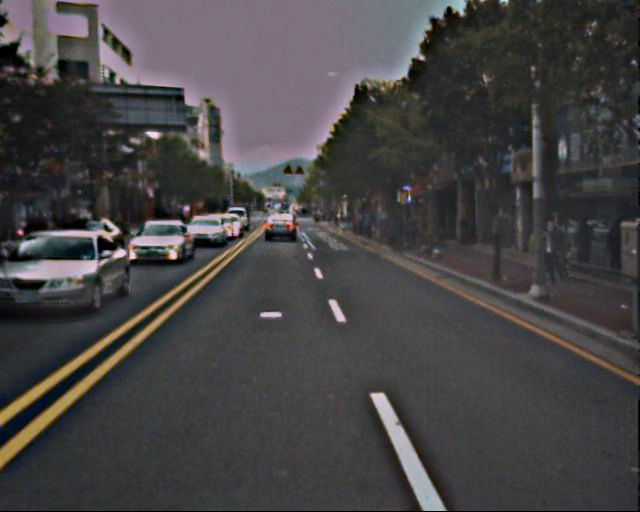person: (535, 216, 563, 285), (548, 214, 576, 272), (604, 219, 629, 274), (575, 215, 596, 265)
